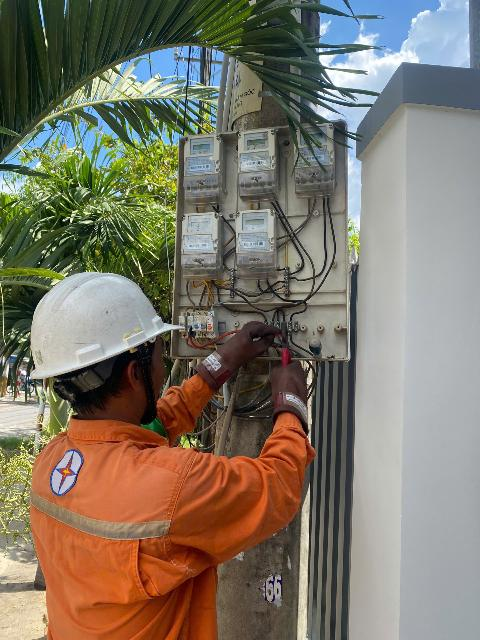gloves: (182, 316, 282, 393), (262, 354, 324, 429)
helmet: (12, 254, 182, 391)
